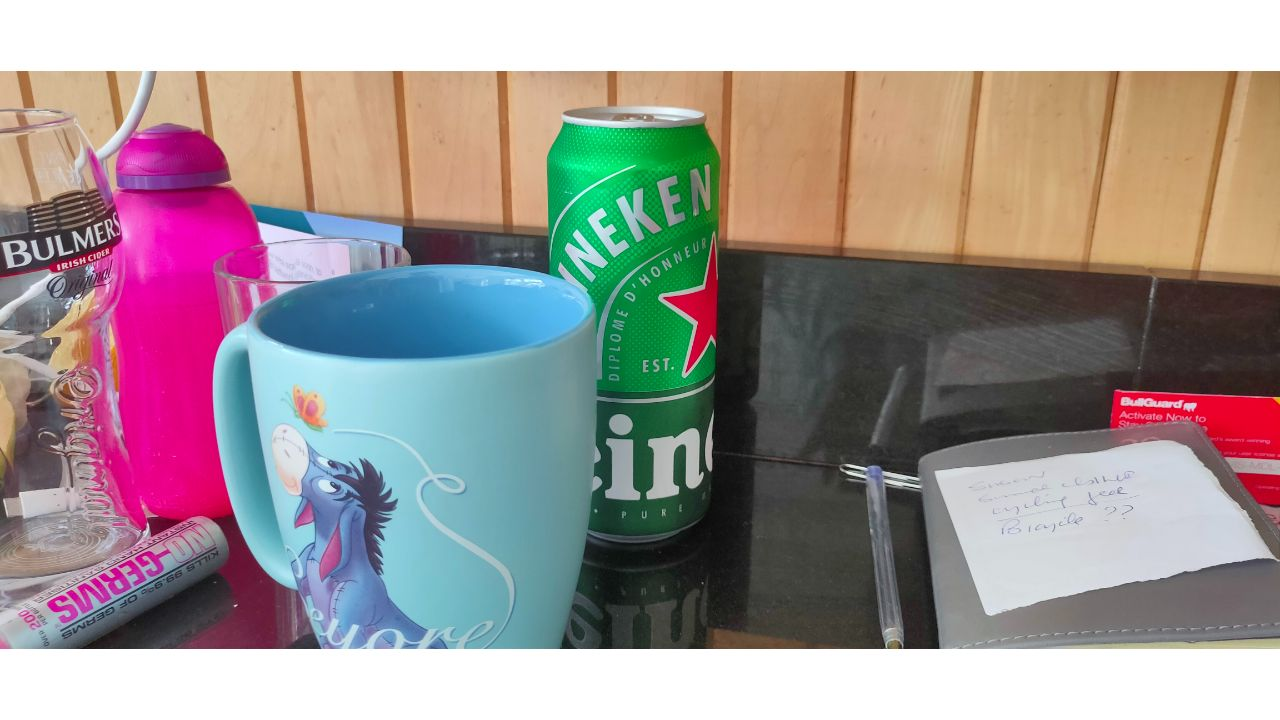Can: (539, 109, 719, 541)
